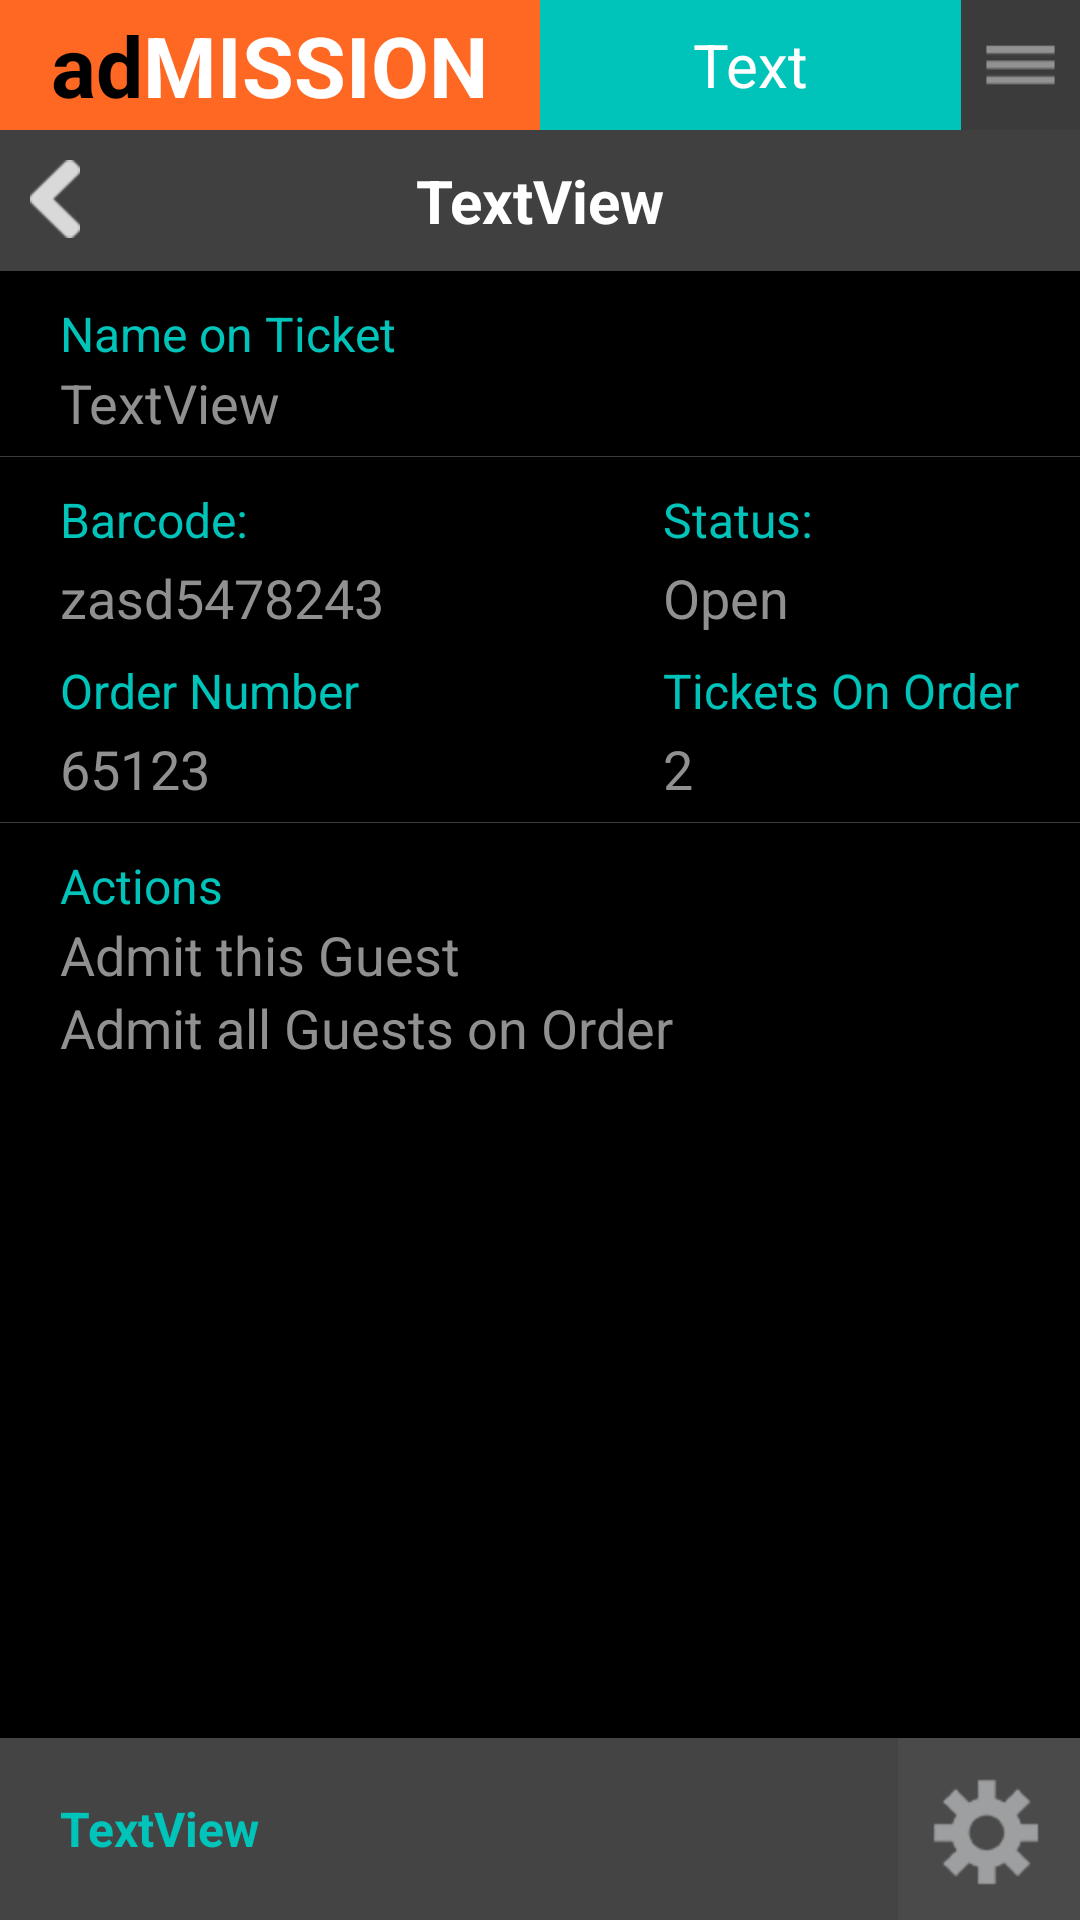

Named icons in this screenshot (1080×1920) and their bounding boxes, (x1, y1, x2, y2):
arrow: (30, 160, 80, 238)
menu: (986, 45, 1055, 84)
